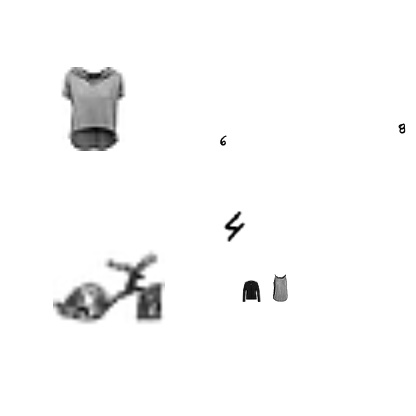4: (212, 204, 254, 246)
6: (216, 134, 230, 148)
8: (395, 121, 409, 135)
Coat: (240, 280, 262, 302)
Sandal: (53, 231, 165, 343)
Shirt: (266, 274, 294, 302)
T-shirt/top: (50, 67, 134, 151)
